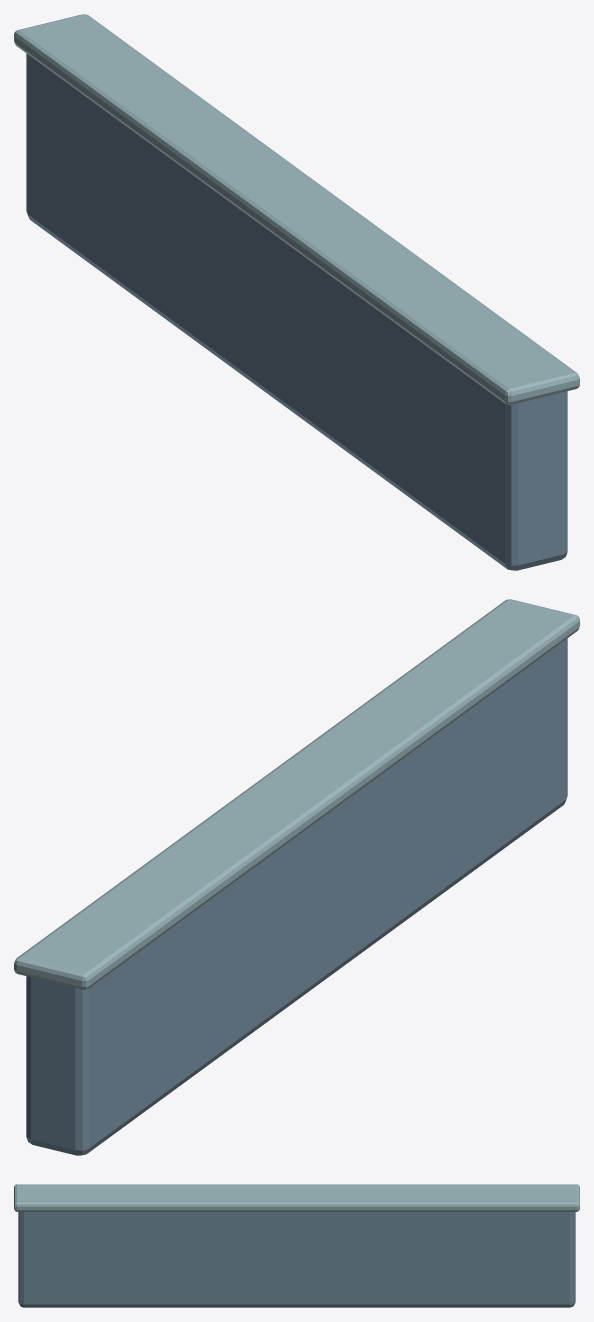
The picture shows the model from 3 angles, top to bottom: view 1: azimuth 30°, elevation 25°; view 2: azimuth 150°, elevation 25°; view 3: azimuth 270°, elevation 25°; orthographic projection. The views are drawn at different scales.
Parts seen in each view (by area): view 1: ai_export.006; view 2: ai_export.006; view 3: ai_export.006.
Boxes of the visible parts, bbox=[...] form: ai_export.006: bbox=[14, 14, 579, 570]; ai_export.006: bbox=[14, 599, 579, 1155]; ai_export.006: bbox=[14, 1184, 579, 1307].
Bounding box in the file's own units: 0.39 × 0.94 × 4.47.
